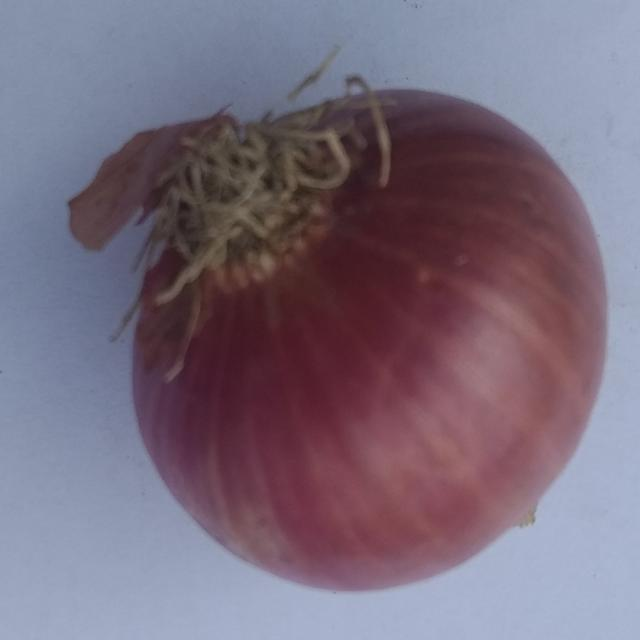onion: (66, 74, 611, 596)
